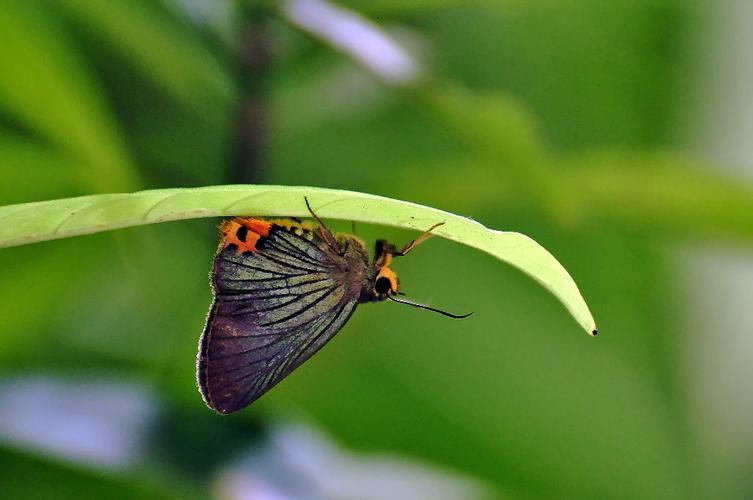Hesperiidae: (192, 193, 467, 420)
